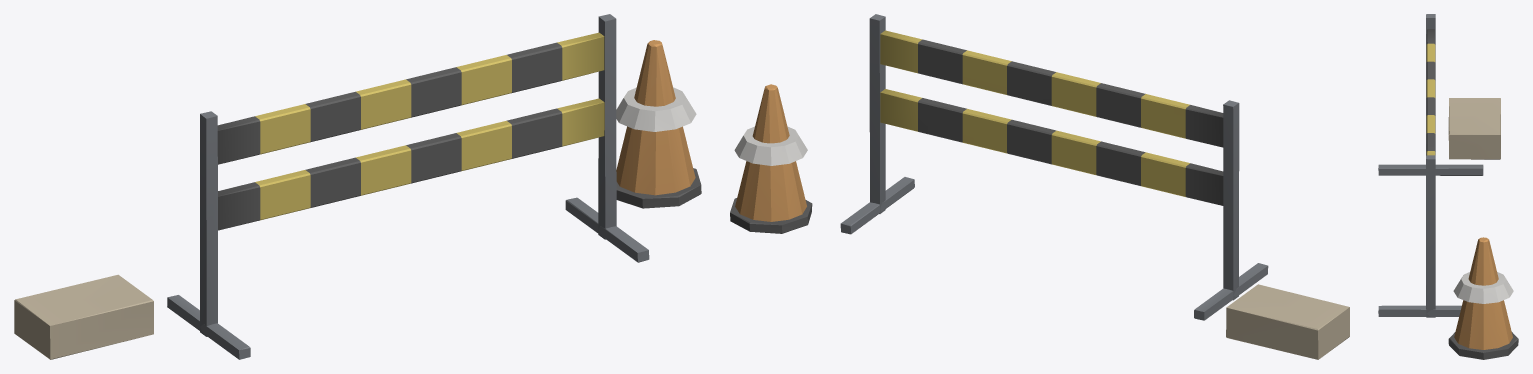
The model's file is works_low.glb.
3 renders of one model, left to right at view 1: azimuth 30°, elevation 25°; view 2: azimuth 150°, elevation 25°; view 3: azimuth 270°, elevation 25°, orthographic. The views are drawn at different scales.
Bounding box in the file's own units: 3.2 × 0.9975 × 0.797.
